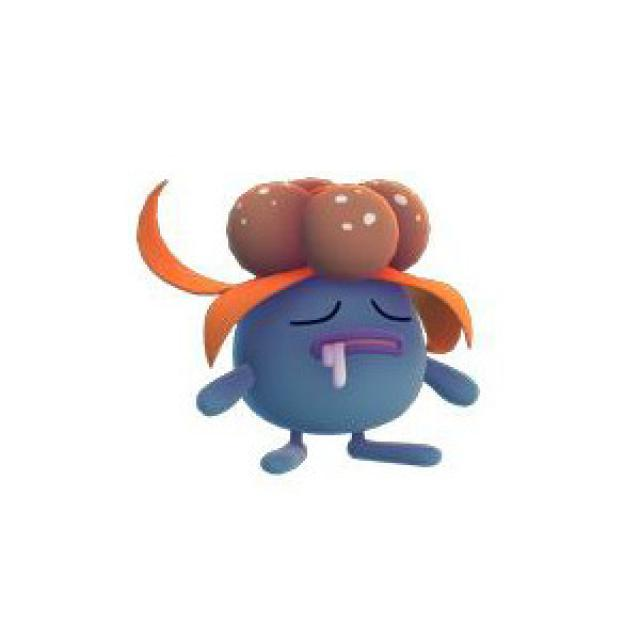Gloom: (199, 177, 475, 472)
